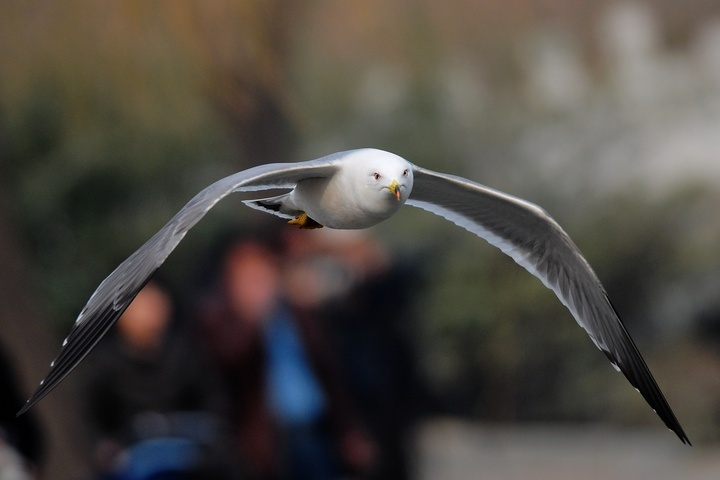bird: (11, 150, 695, 448)
